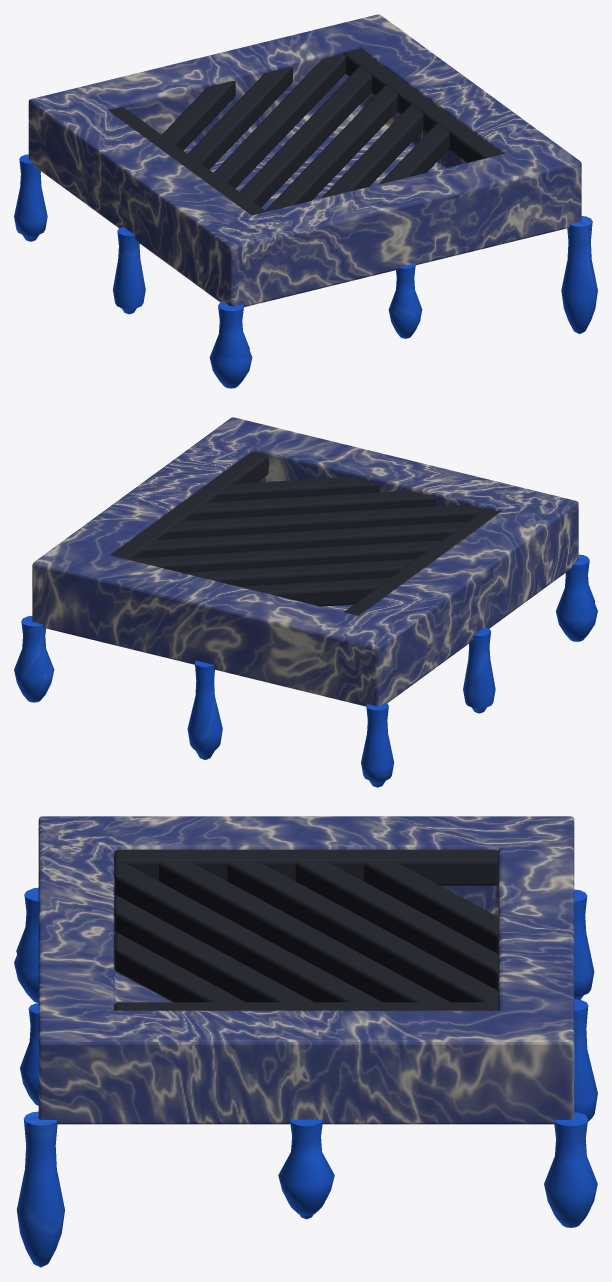
File: storm_drain.glb
3 views of the same model, one above another, from view 1: azimuth 30°, elevation 25°; view 2: azimuth 150°, elevation 25°; view 3: azimuth 270°, elevation 25° (orthographic). The views are drawn at different scales.
Visible parts, largest first — view 1: storm_drain; view 2: storm_drain; view 3: storm_drain.
Boxes of the visible parts, x1,y1,x2,y2 form: storm_drain: (14,14,597,388); storm_drain: (14,417,597,787); storm_drain: (14,816,597,1267).
Size of the model in its own units: 0.7031 by 0.3 by 0.6972.
1 material, 1 textured.
